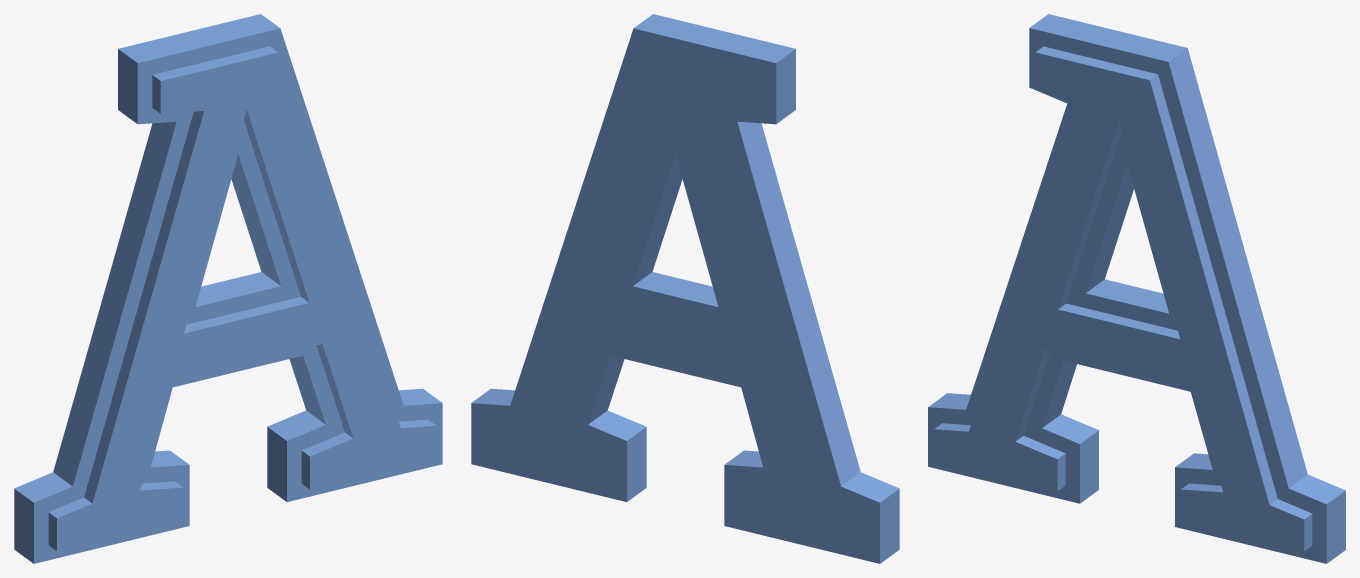
3 views of the same model, side by side, from view 1: azimuth 30°, elevation 25°; view 2: azimuth 150°, elevation 25°; view 3: azimuth 330°, elevation 25° (orthographic). The views are drawn at different scales.
Parts seen in each view (by area): view 1: A; view 2: A; view 3: A.
Boxes of the visible parts, x1,y1,x2,y2 form: A: [14, 14, 442, 563]; A: [471, 14, 899, 563]; A: [928, 14, 1345, 563].
Bounding box in the file's own units: 4.2 × 4.67 × 0.5.
